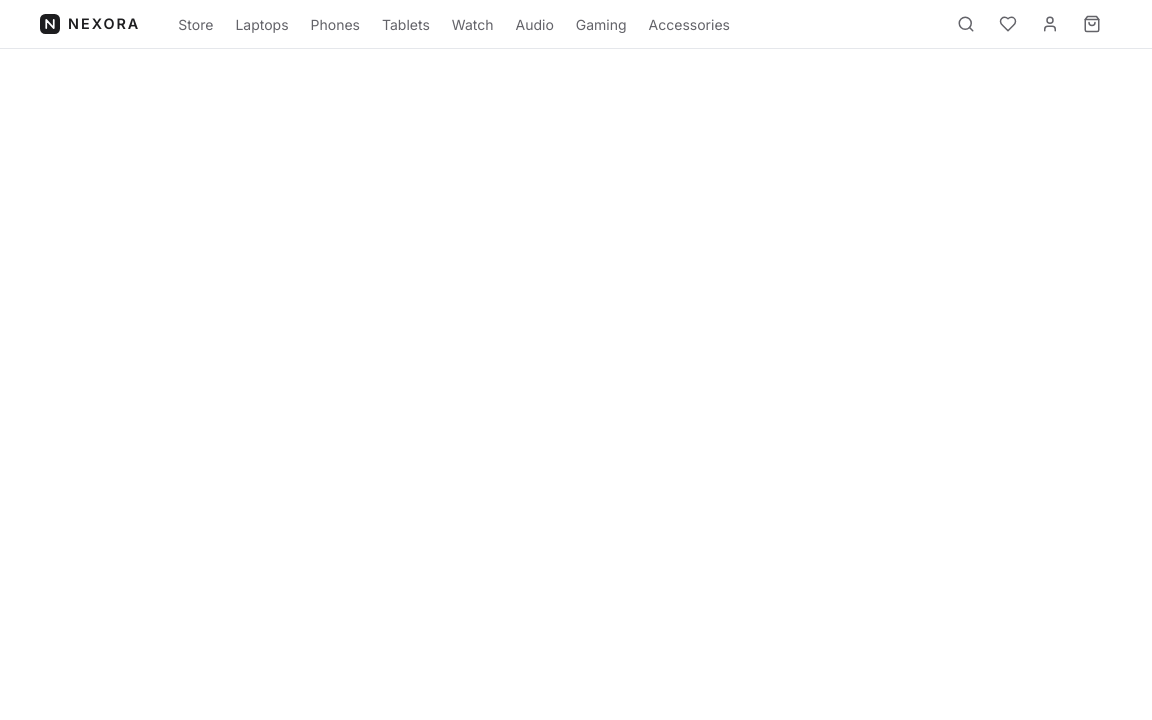
Test: Header › opens the search dialog and focuses the field
Click the button named "Search the store". click: point(966, 24)
box: [946,4,986,44]
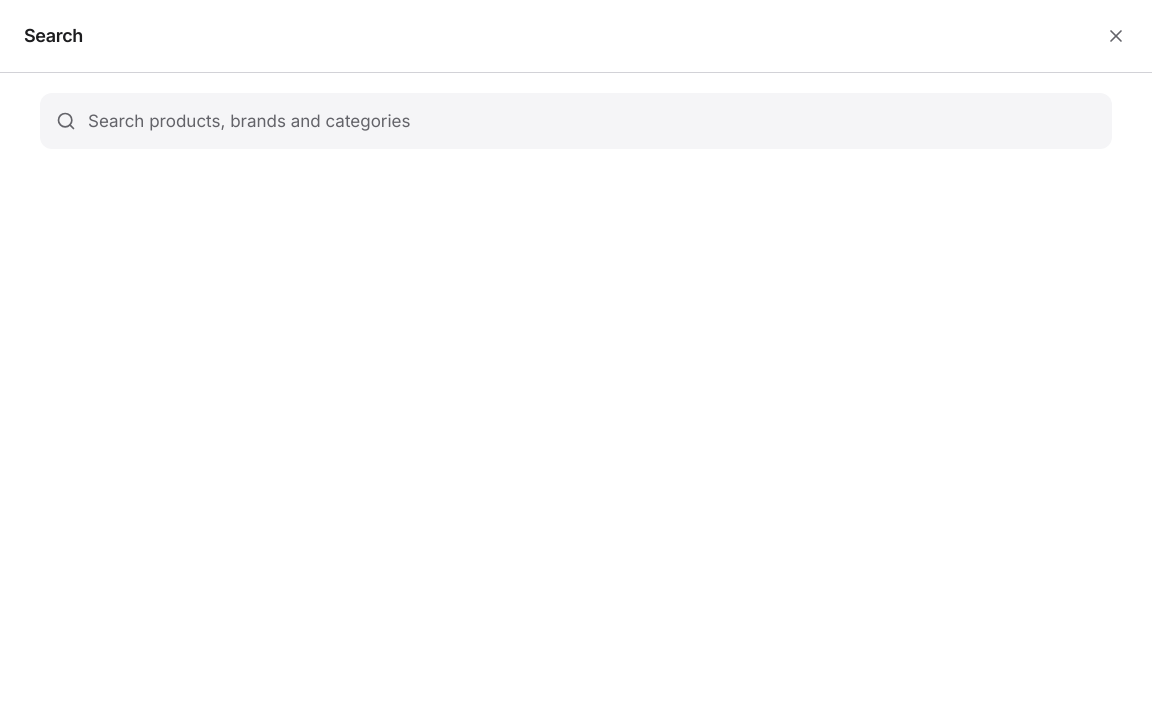
Now the dialog "Search" is shown
